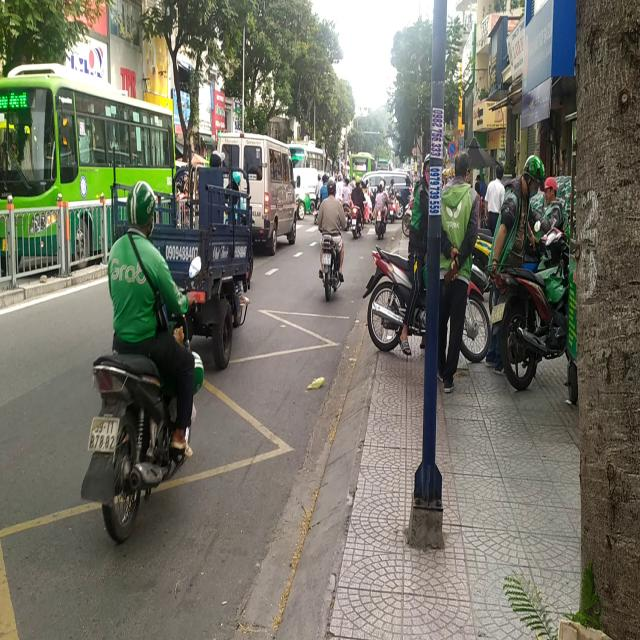bien_trang: (89, 414, 120, 457)
